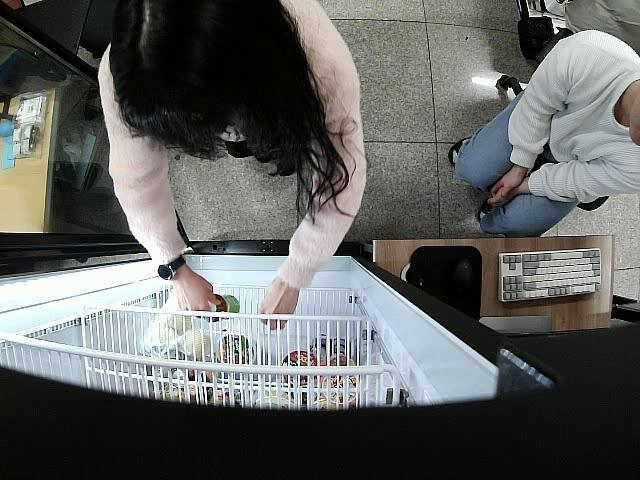19_17cha: (204, 292, 243, 324)
